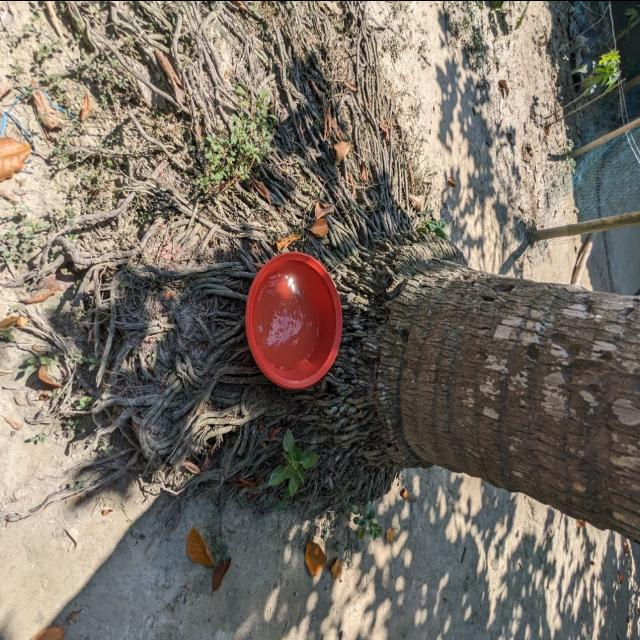Breeding Place: (232, 232, 356, 408)
